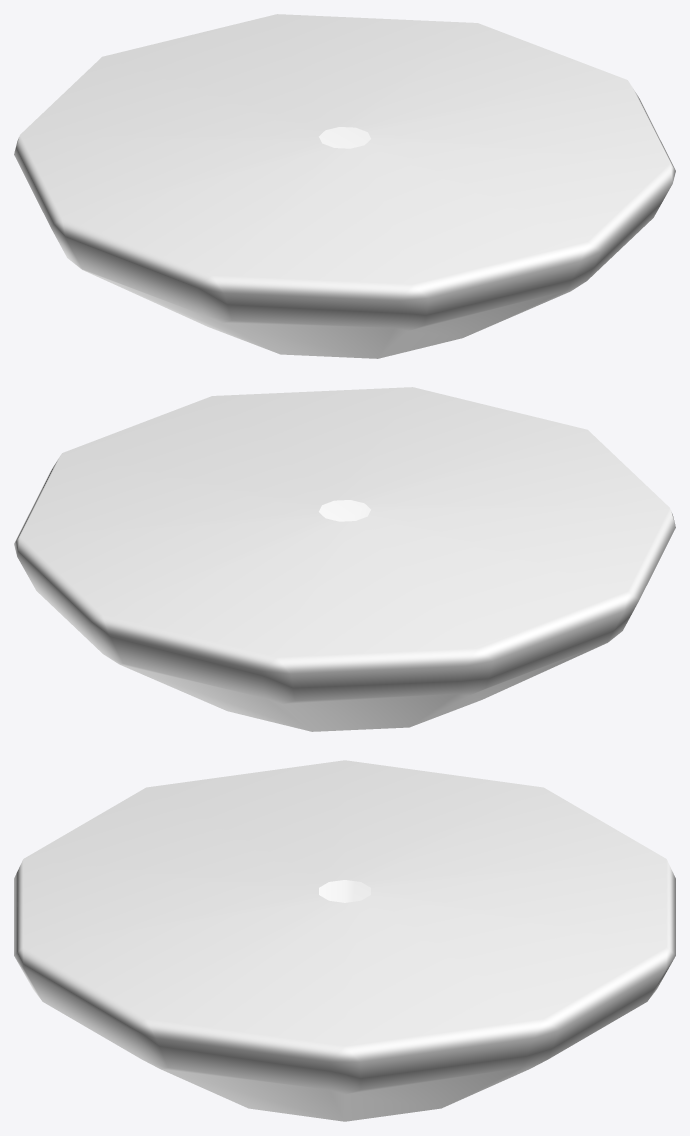
Rendered from gem.glb.
3 views of the same model, one above another, from view 1: azimuth 30°, elevation 25°; view 2: azimuth 150°, elevation 25°; view 3: azimuth 270°, elevation 25° (orthographic). The views are drawn at different scales.
Parts seen in each view (by area): view 1: Gem; view 2: Gem; view 3: Gem.
Boxes of the visible parts, <box> form: Gem: <box>14,14,675,358</box>; Gem: <box>14,387,675,731</box>; Gem: <box>14,760,675,1121</box>.
Size of the model in its own units: 0.5017 by 0.13 by 0.4842.
1 material, 1 textured.
